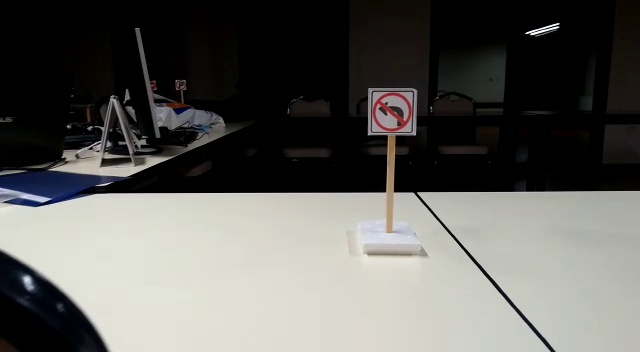sola_donulmez: (369, 90, 419, 138)
